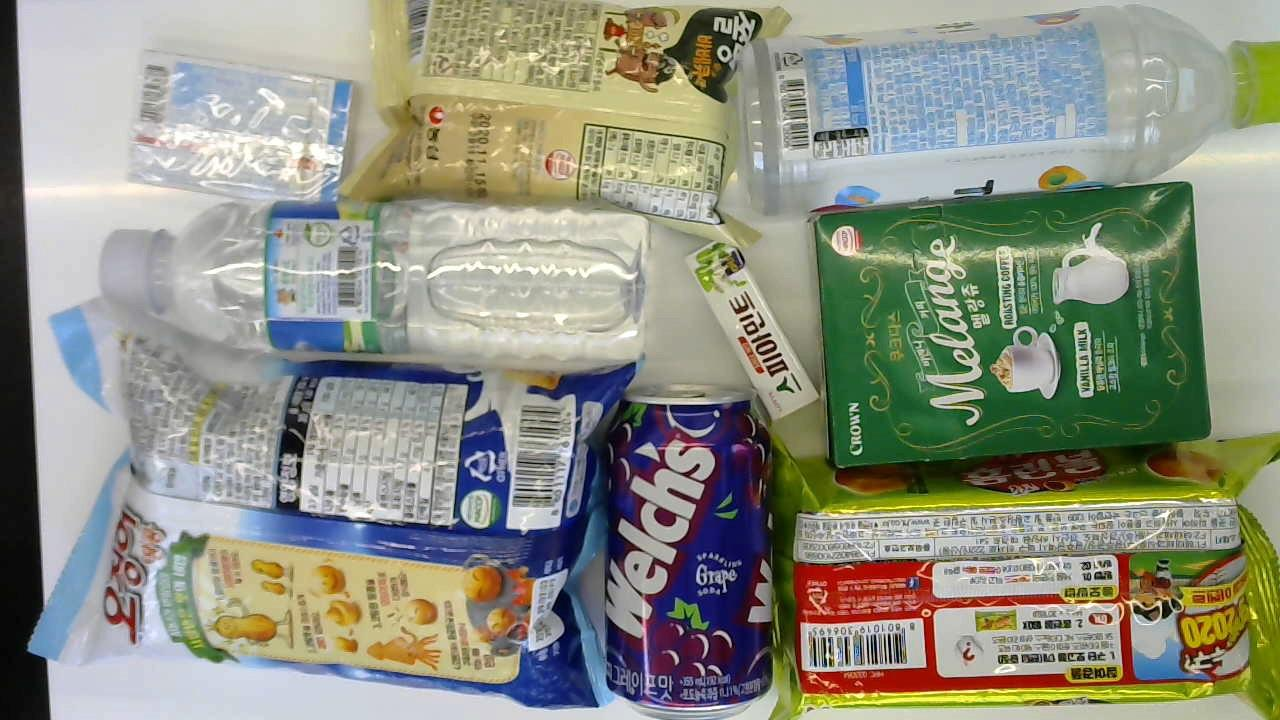ID_gum: (125, 49, 357, 204)
couque_coffee: (804, 185, 1215, 468)
homerunball: (759, 431, 1277, 720)
jjolbyung_ori: (339, 0, 796, 246)
samdasu: (97, 197, 652, 367)
spearmint: (688, 234, 815, 424)
squid_peanut: (16, 292, 631, 720)
toreta: (736, 1, 1276, 205)
welchs: (602, 380, 775, 718)
